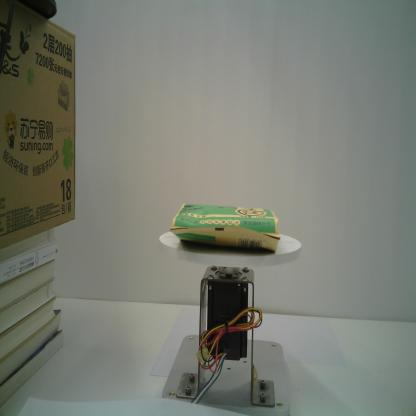Dried Food: (170, 201, 282, 255)
